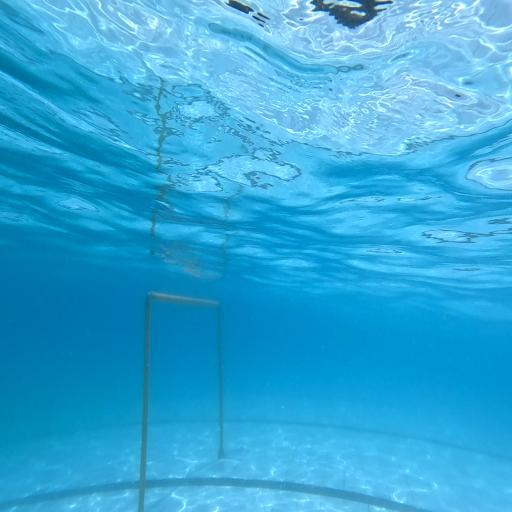gate: (138, 291, 224, 512)
